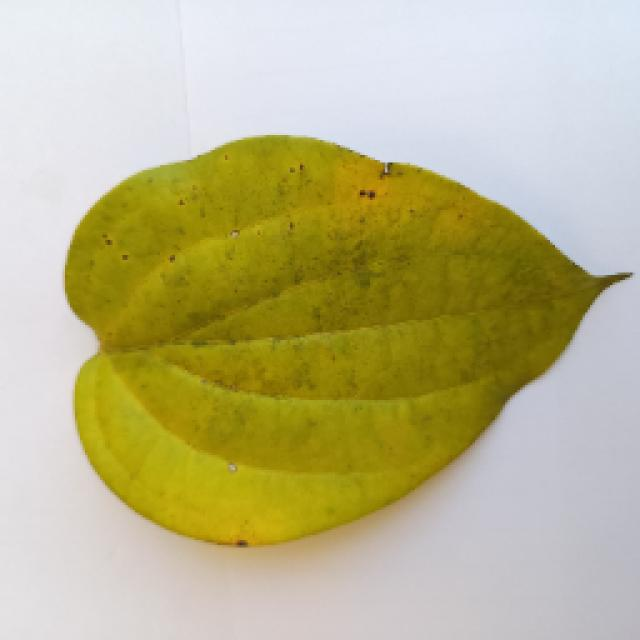slow-decline: (65, 132, 633, 542)
